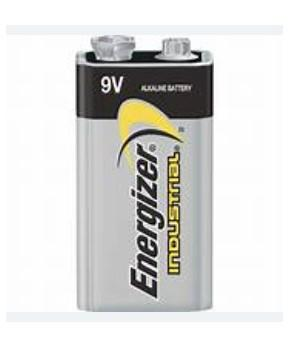9V Battery: (76, 34, 213, 313)
